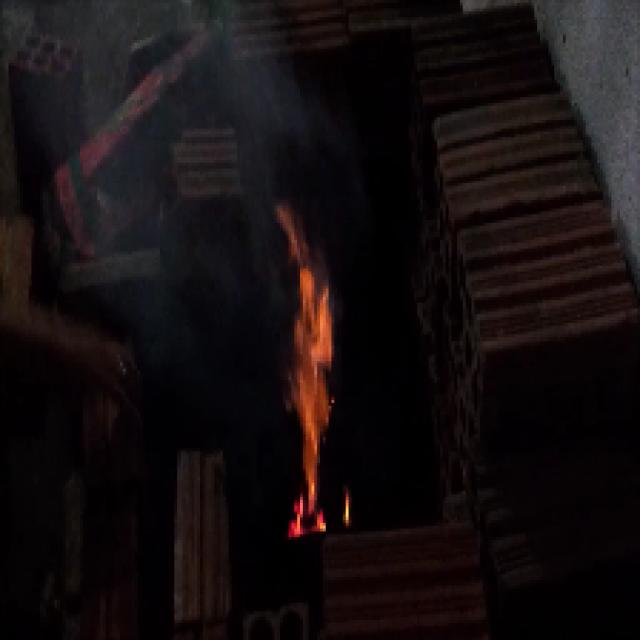fire: (286, 287, 340, 497)
